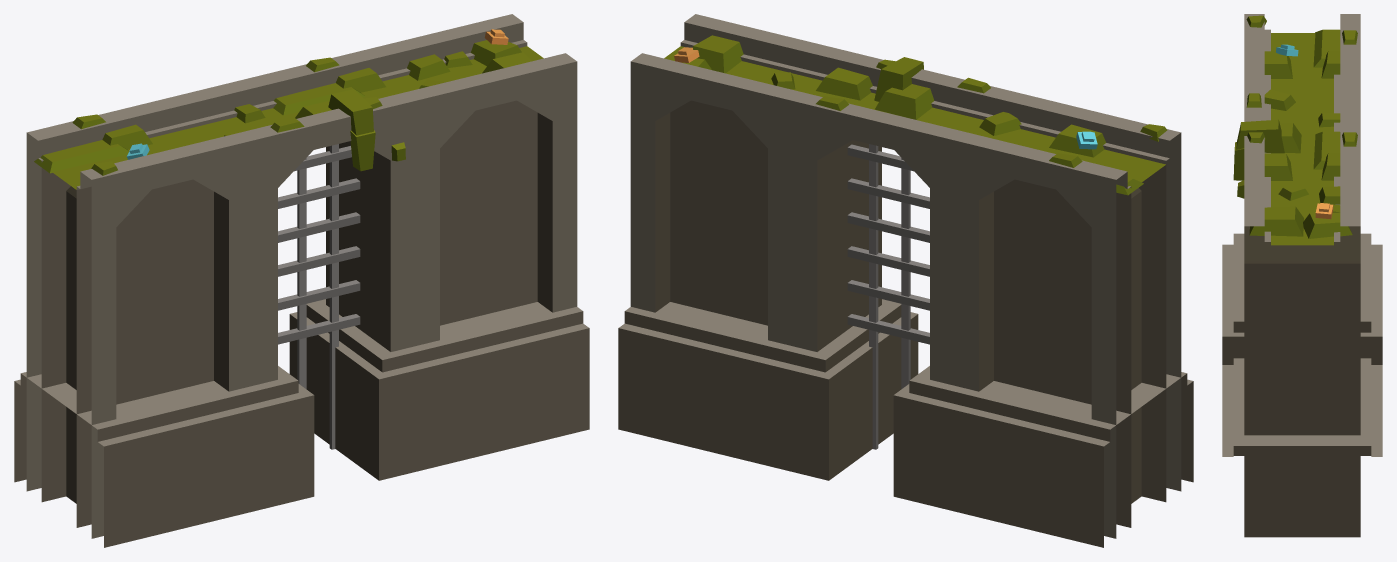
The model's file is SF_Bld_Elven_Castle_Wall_02.fbx.
3 views of the same model, side by side, from view 1: azimuth 30°, elevation 25°; view 2: azimuth 150°, elevation 25°; view 3: azimuth 270°, elevation 25° (orthographic). The views are drawn at different scales.
Visible parts, largest first — view 1: SF_Bld_Elven_Castle_Wall_02; view 2: SF_Bld_Elven_Castle_Wall_02; view 3: SF_Bld_Elven_Castle_Wall_02.
Boxes of the visible parts, box(x1,y1,x2,y2) form: SF_Bld_Elven_Castle_Wall_02: box(14, 14, 589, 547); SF_Bld_Elven_Castle_Wall_02: box(618, 14, 1193, 547); SF_Bld_Elven_Castle_Wall_02: box(1222, 14, 1382, 537).
Size of the model in its own units: 15.08 by 10.85 by 4.79.
